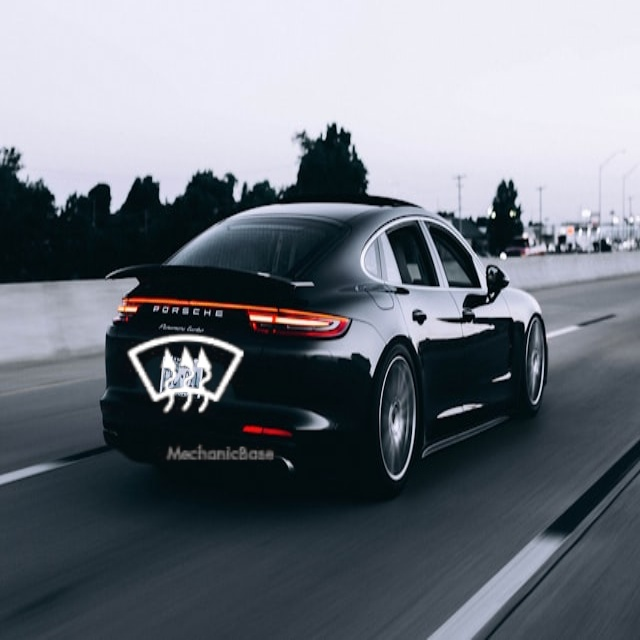symbol: (94, 282, 281, 469)
